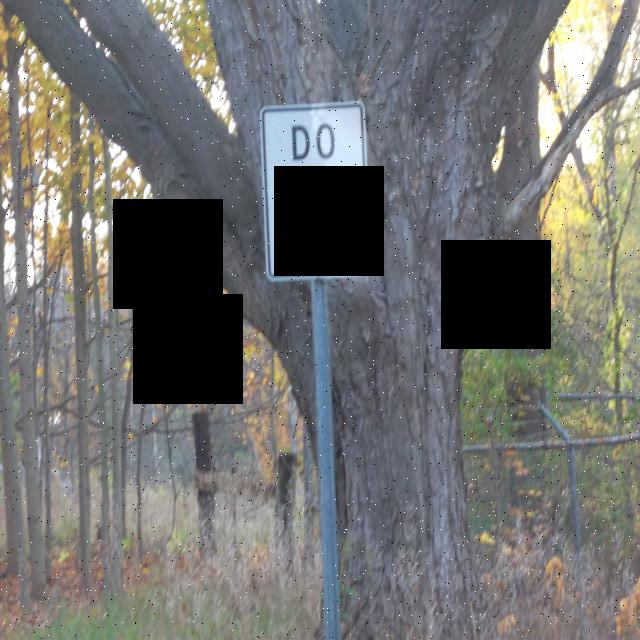regulatory: (256, 100, 374, 284)
